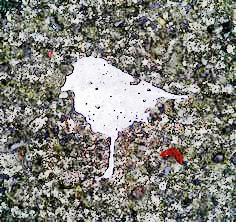Bird Poop: (61, 56, 186, 177)
